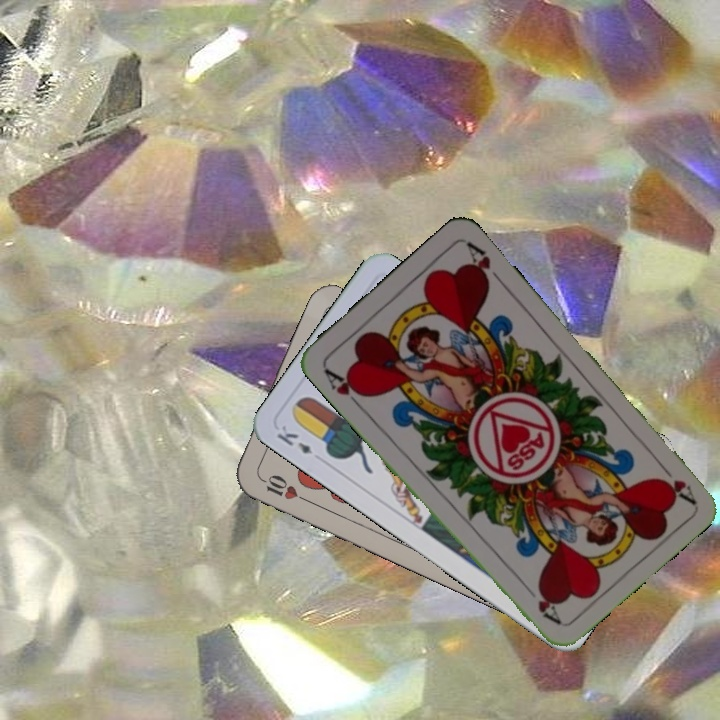EK: (272, 421, 315, 457)
H10: (255, 470, 310, 505)
HA: (320, 364, 370, 412), (653, 457, 698, 506)
